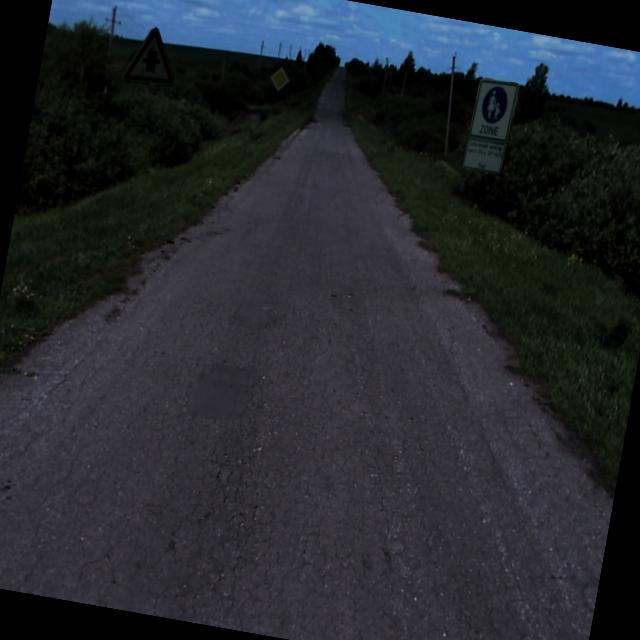road: (0, 97, 612, 640)
